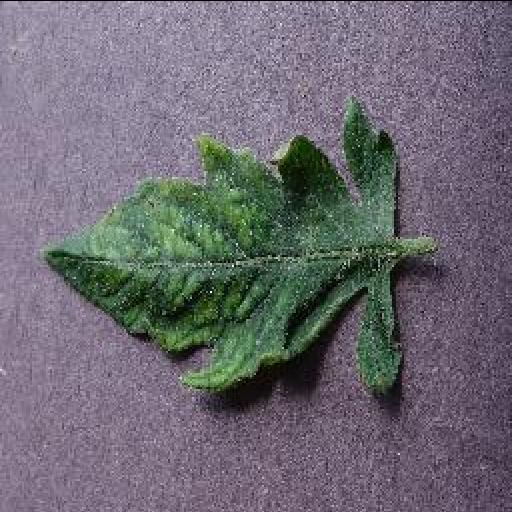disease_tomato: (38, 90, 400, 398)
